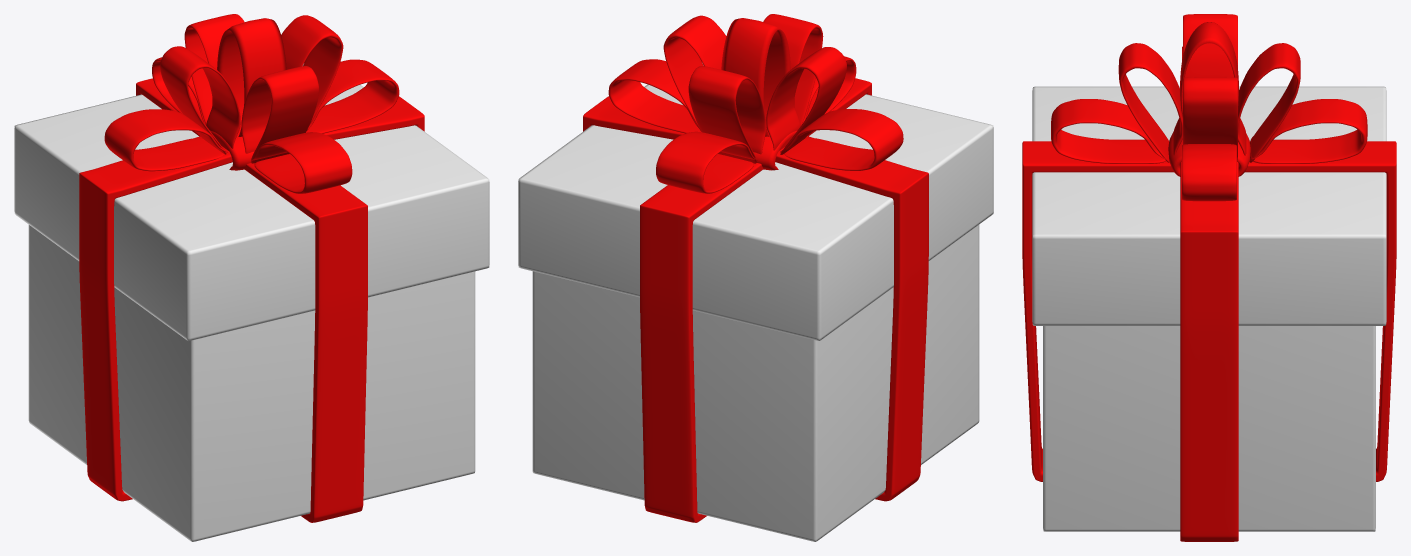
The model's file is asset.gltf.
3 renders of one model, left to right at view 1: azimuth 30°, elevation 25°; view 2: azimuth 150°, elevation 25°; view 3: azimuth 270°, elevation 25°, orthographic.
Visible parts, largest first — view 1: Cube, Cube.001, Cube.003, Cube.004, Cube.013, Cube.008, Cube.006, Cube.007, Cube.012, Cylinder, Cube.011, Cube.010 (+4 smaller); view 2: Cube, Cube.001, Cube.002, Cube.004, Cube.010, Cube.008, Cube.009, Cube.012, Cylinder, Cube.007, Cube.011, Cube.013 (+4 smaller); view 3: Cube, Cube.001, Cube.005, Cube.002, Cube.003, Cube.009, Cube.006, Cube.011, Cube.013, Cube.010, Cube.007, Cube.012 (+2 smaller).
Boxes of the visible parts, x1=… form: Cube: x1=28, y1=225, x2=475, y2=541; Cube.001: x1=14, y1=64, x2=489, y2=340; Cube.003: x1=244, y1=163, x2=367, y2=522; Cube.004: x1=79, y1=136, x2=232, y2=501; Cube.013: x1=241, y1=66, x2=318, y2=163; Cube.008: x1=104, y1=109, x2=227, y2=171; Cube.006: x1=251, y1=132, x2=352, y2=193; Cube.007: x1=306, y1=59, x2=399, y2=133; Cube.012: x1=160, y1=46, x2=240, y2=154; Cylinder: x1=217, y1=18, x2=286, y2=136; Cube.011: x1=281, y1=15, x2=343, y2=123; Cube.010: x1=184, y1=14, x2=244, y2=124; Cube: x1=532, y1=225, x2=979, y2=541; Cube.001: x1=518, y1=63, x2=993, y2=340; Cube.002: x1=640, y1=163, x2=763, y2=522; Cube.004: x1=775, y1=136, x2=928, y2=501; Cube.010: x1=688, y1=66, x2=765, y2=163; Cube.008: x1=780, y1=109, x2=903, y2=170; Cube.009: x1=656, y1=131, x2=757, y2=193; Cube.012: x1=766, y1=47, x2=846, y2=154; Cylinder: x1=721, y1=18, x2=790, y2=136; Cube.007: x1=608, y1=59, x2=701, y2=133; Cube.011: x1=663, y1=15, x2=726, y2=130; Cube.013: x1=763, y1=14, x2=823, y2=125; Cube: x1=1043, y1=326, x2=1375, y2=531; Cube.001: x1=1032, y1=86, x2=1386, y2=325; Cube.005: x1=1180, y1=161, x2=1238, y2=541; Cube.002: x1=1245, y1=141, x2=1396, y2=481; Cube.003: x1=1022, y1=141, x2=1173, y2=481; Cube.009: x1=1250, y1=99, x2=1367, y2=163; Cube.006: x1=1051, y1=99, x2=1165, y2=163; Cube.011: x1=1183, y1=77, x2=1237, y2=160; Cube.013: x1=1118, y1=43, x2=1182, y2=162; Cube.010: x1=1238, y1=43, x2=1300, y2=162; Cube.007: x1=1182, y1=144, x2=1236, y2=201; Cube.012: x1=1183, y1=14, x2=1237, y2=77.
Bounding box in the file's own units: 0.225 × 0.2933 × 0.225.
